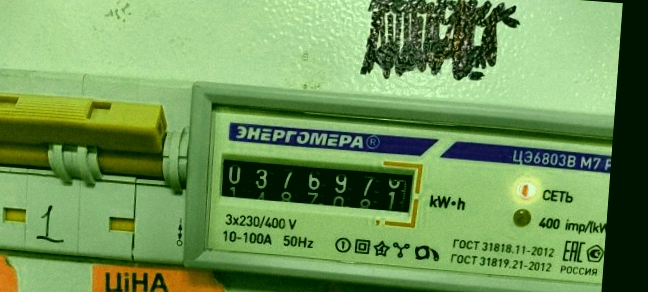0: (225, 161, 242, 184)
1: (385, 188, 395, 211)
3: (253, 166, 268, 188)
6: (305, 166, 322, 190)
7: (279, 165, 295, 189), (359, 171, 375, 195)
9: (332, 170, 348, 193)
screen: (207, 143, 426, 231)
